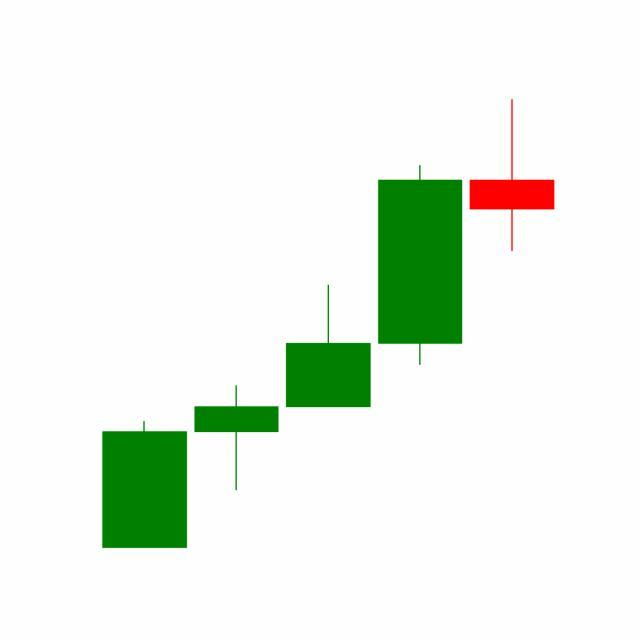Marubozu: (374, 164, 468, 369)
